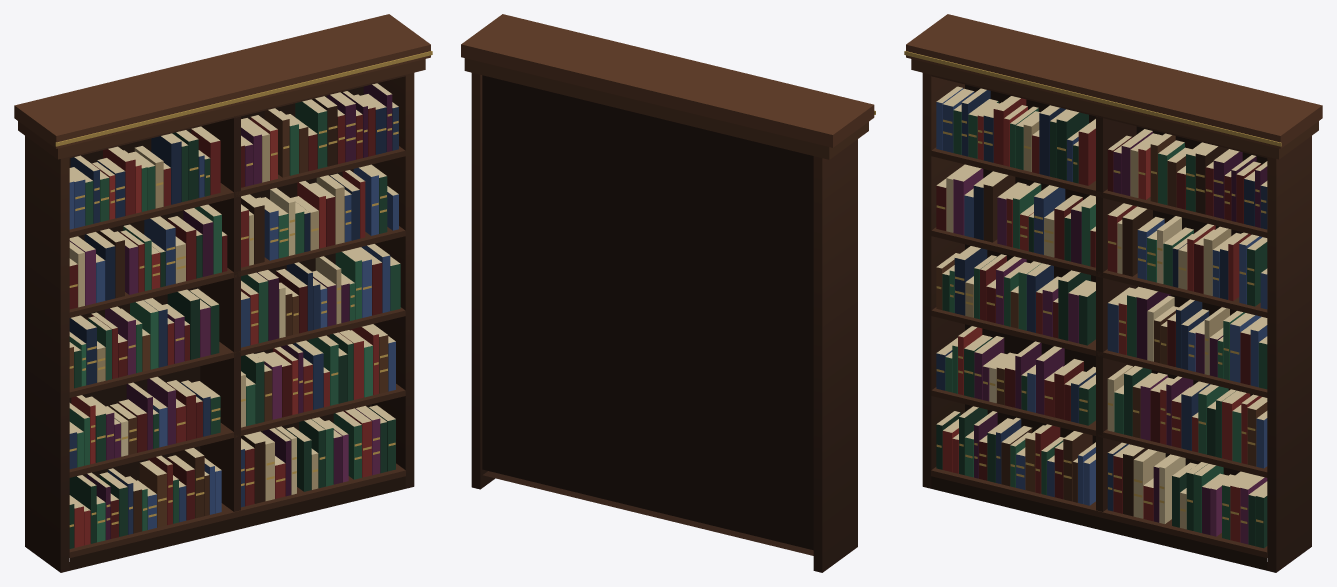
The model's file is SM_Bookcase_Tall_2m_Filled.fbx.
3 views of the same model, side by side, from view 1: azimuth 30°, elevation 25°; view 2: azimuth 150°, elevation 25°; view 3: azimuth 330°, elevation 25° (orthographic).
Parts seen in each view (by area): view 1: SM_Bookcase_Tall_2m_Filled; view 2: SM_Bookcase_Tall_2m_Filled; view 3: SM_Bookcase_Tall_2m_Filled.
Part boxes in pixels (<box>): SM_Bookcase_Tall_2m_Filled: <box>14,14,432,572</box>; SM_Bookcase_Tall_2m_Filled: <box>461,14,875,572</box>; SM_Bookcase_Tall_2m_Filled: <box>904,14,1322,572</box>.
Bounding box in the file's own units: 2.13 × 2.4 × 0.415.
